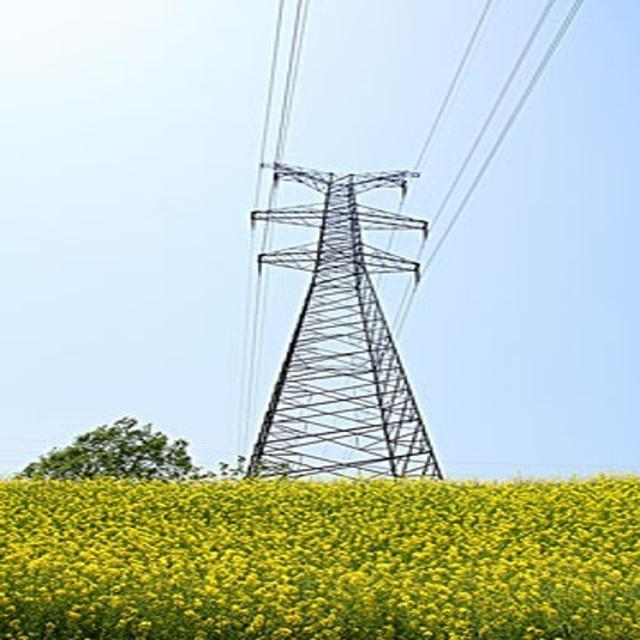non-critical vegetation: (212, 147, 460, 479)
